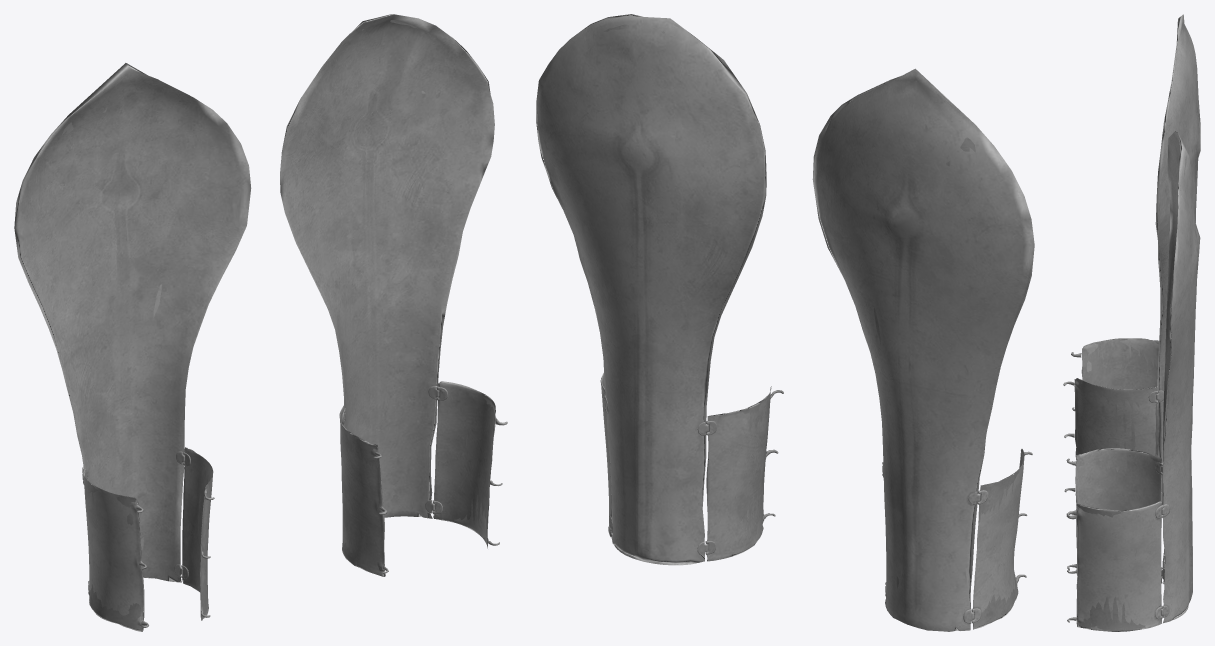
File: armguard.glb
The picture shows the model from 3 angles, left to right: view 1: azimuth 30°, elevation 25°; view 2: azimuth 150°, elevation 25°; view 3: azimuth 270°, elevation 25°; orthographic projection. The views are drawn at different scales.
Parts seen in each view (by area): view 1: WA0027; view 2: WA0027; view 3: WA0027.
Part boxes in pixels (x1,y1,x2,y2): WA0027: (14,14,507,631); WA0027: (536,14,1034,631); WA0027: (1063,14,1200,631).
Bounding box in the file's own units: 0.3676 × 0.3867 × 0.1006.
Materials: 1 (1 with a texture image).
